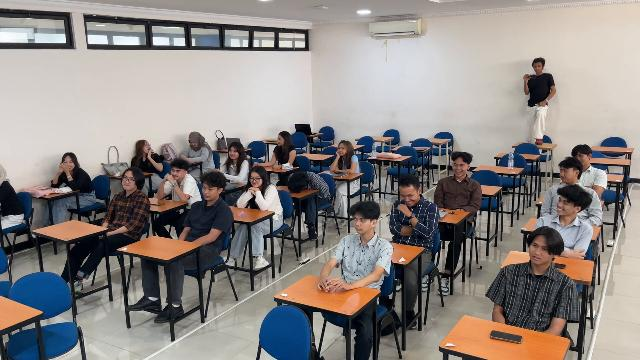senang: (529, 241, 548, 265), (249, 171, 269, 190), (399, 187, 420, 205), (353, 216, 369, 234), (557, 195, 571, 213), (559, 166, 574, 182), (452, 160, 466, 177), (202, 184, 216, 200), (575, 151, 590, 165), (171, 167, 185, 180), (123, 173, 135, 188), (338, 143, 347, 155), (229, 147, 238, 158), (277, 134, 285, 146), (188, 140, 198, 148)
